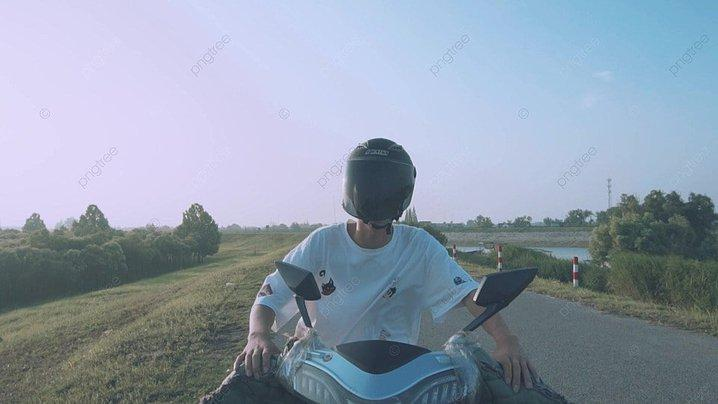Helmet: (341, 135, 417, 233)
